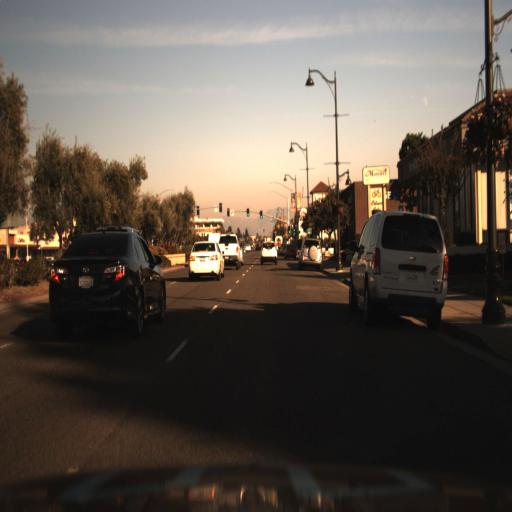car: (47, 224, 168, 341), (348, 204, 449, 319), (189, 241, 223, 278), (295, 236, 325, 271), (297, 236, 323, 271), (220, 233, 242, 267), (260, 238, 278, 266), (204, 230, 225, 245), (284, 241, 299, 259)
